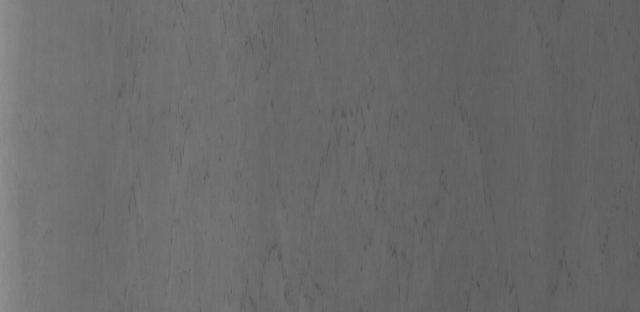silk_spot: (212, 54, 542, 312)
